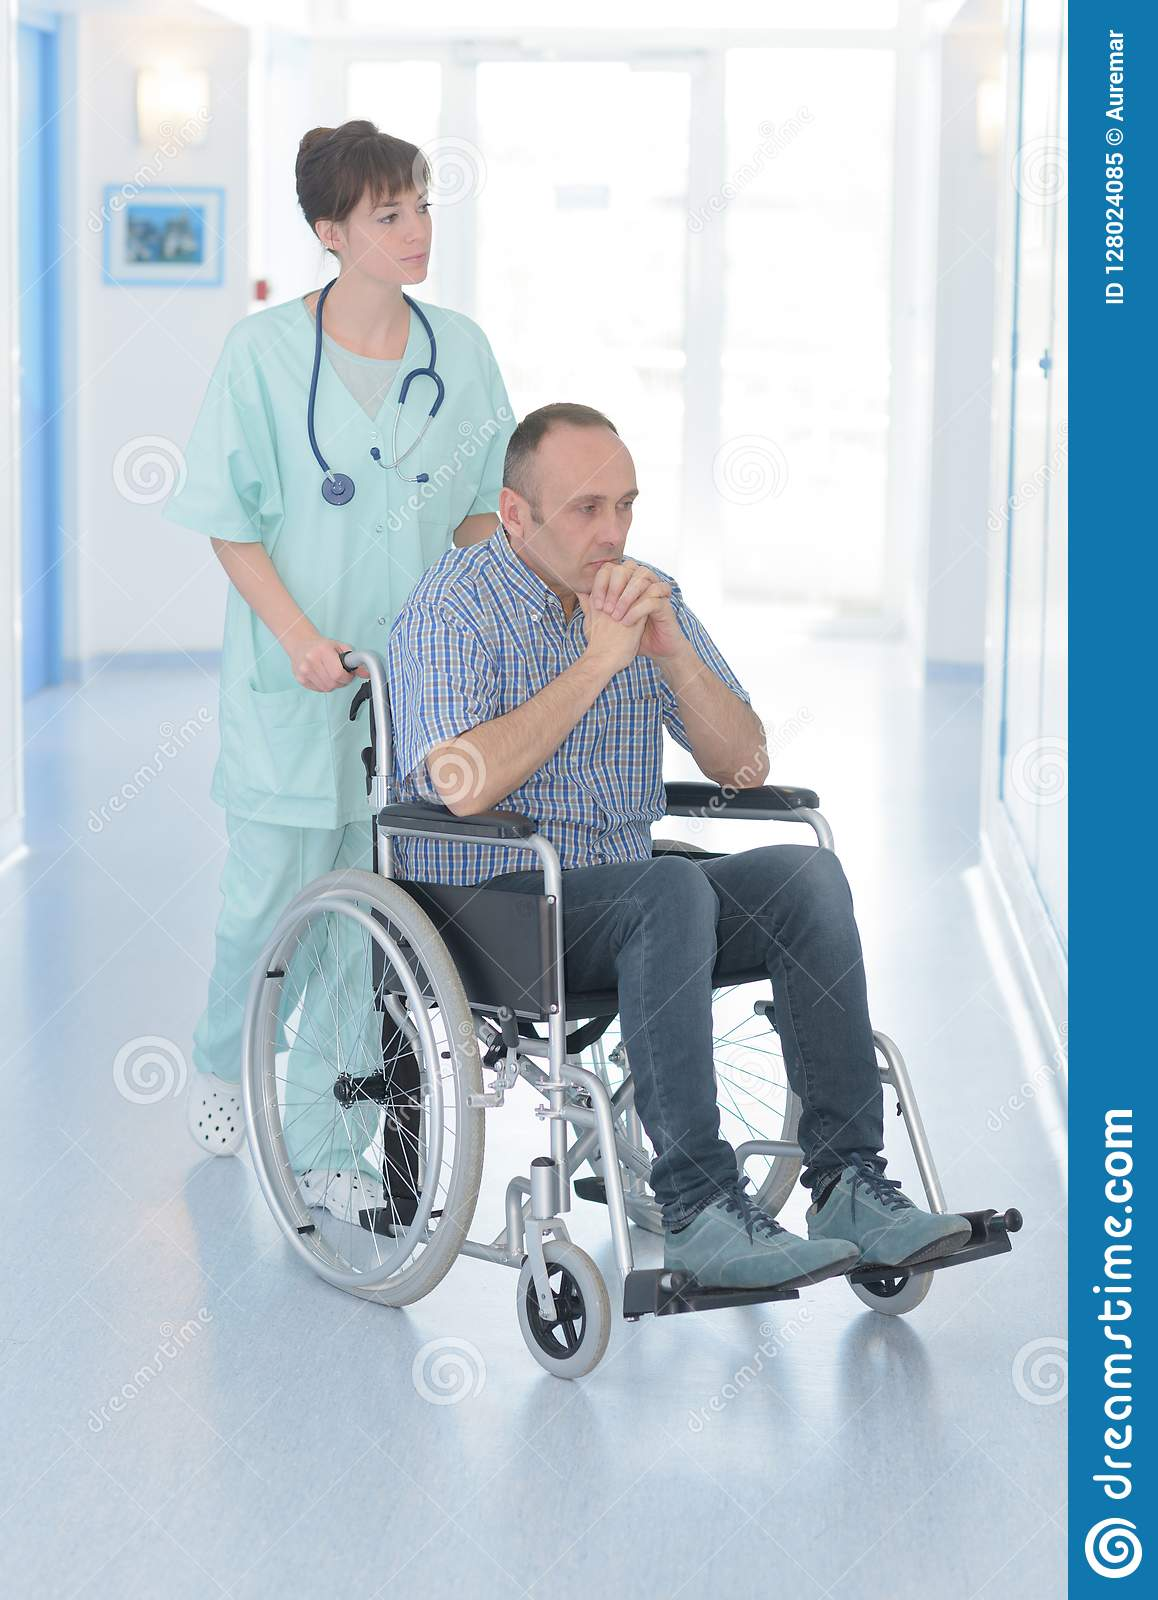wheelchair: (242, 400, 1026, 1380)
